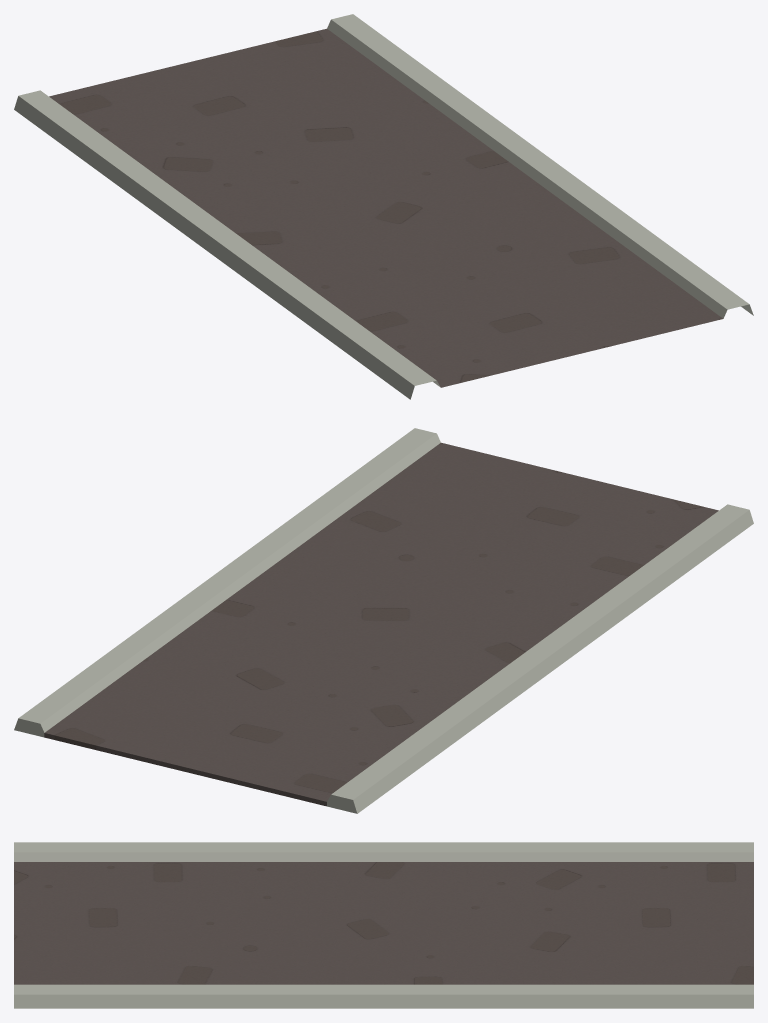
Rendered from ParkRoad_1_C.glb.
3 views of the same model, one above another, from view 1: azimuth 30°, elevation 25°; view 2: azimuth 150°, elevation 25°; view 3: azimuth 270°, elevation 25° (orthographic). The views are drawn at different scales.
Visible parts, largest first — view 1: ParkRoad_1_C; view 2: ParkRoad_1_C; view 3: ParkRoad_1_C.
Boxes of the visible parts, <box> form: ParkRoad_1_C: <box>14,14,753,399</box>; ParkRoad_1_C: <box>14,428,753,813</box>; ParkRoad_1_C: <box>14,842,753,1008</box>.
Size of the model in its own units: 2 by 0.0716 by 4.
2 materials, 2 textured.
